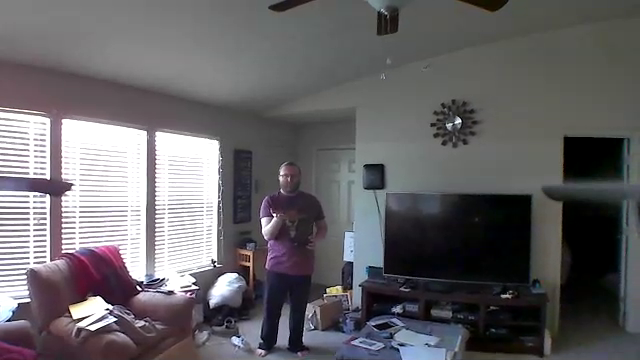land: (266, 204, 290, 225)
